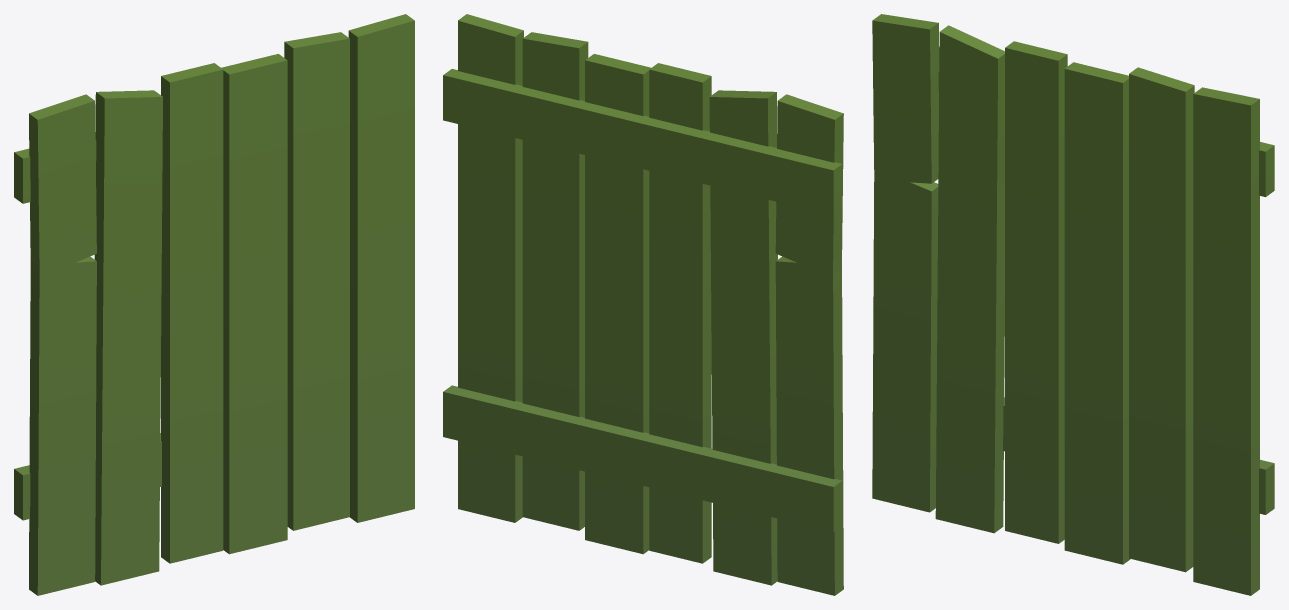
Rendered from Fence_03.fbx.
The picture shows the model from 3 angles, left to right: view 1: azimuth 30°, elevation 25°; view 2: azimuth 150°, elevation 25°; view 3: azimuth 330°, elevation 25°; orthographic projection.
Parts seen in each view (by area): view 1: Fence_03; view 2: Fence_03; view 3: Fence_03.
Boxes of the visible parts, box(x1,y1,x2,y2) form: Fence_03: box(14, 14, 414, 595); Fence_03: box(443, 14, 843, 595); Fence_03: box(872, 14, 1274, 595).
Bounding box in the file's own units: 1.02 × 1.22 × 0.0766.
